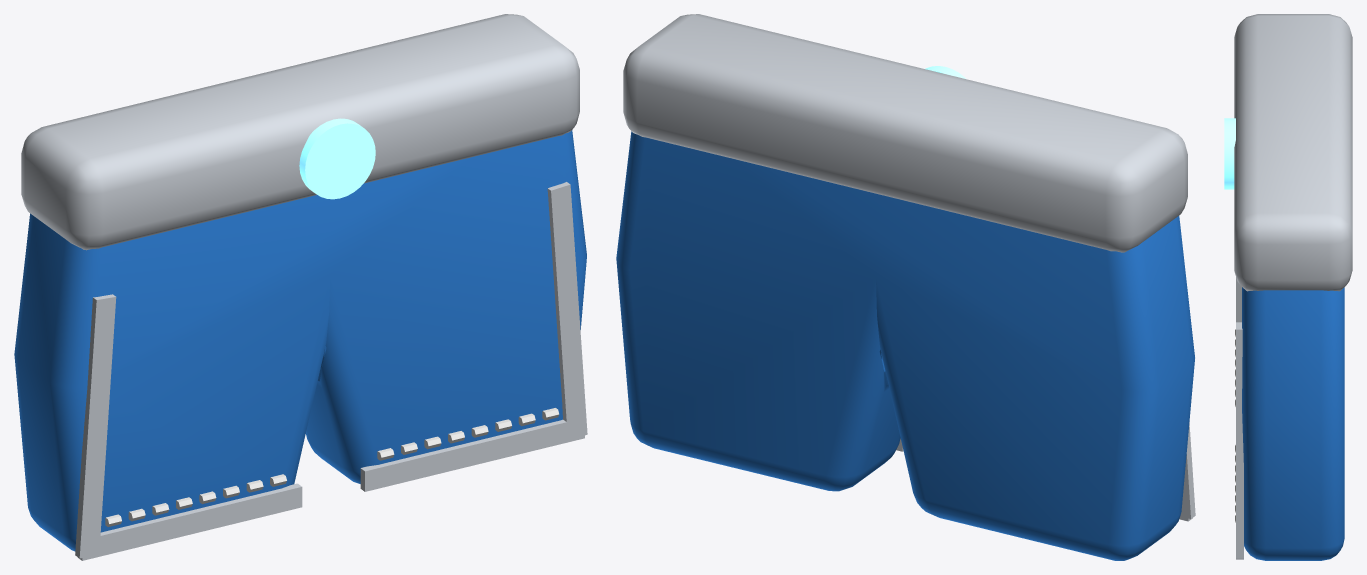
File: shorts.glb
3 renders of one model, left to right at view 1: azimuth 30°, elevation 25°; view 2: azimuth 150°, elevation 25°; view 3: azimuth 270°, elevation 25°, orthographic. The views are drawn at different scales.
Parts seen in each view (by area): view 1: shorts; view 2: shorts; view 3: shorts.
Part boxes in pixels (bbox=[...]): shorts: bbox=[14, 14, 587, 560]; shorts: bbox=[616, 14, 1195, 560]; shorts: bbox=[1224, 14, 1352, 560].
Size of the model in its own units: 1.6 by 1.14 by 0.3824.
